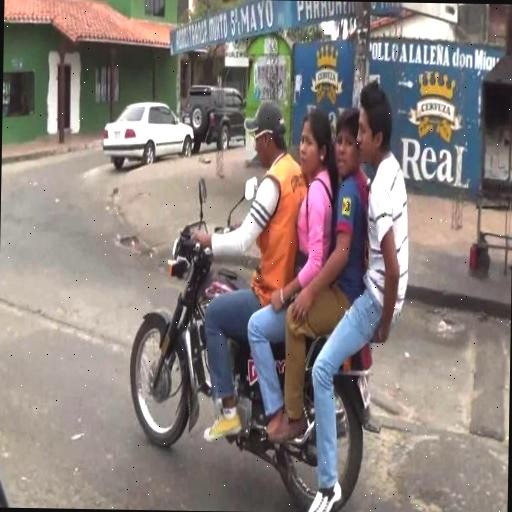no helmet: (234, 92, 308, 194)
triple riding: (124, 75, 415, 512)
